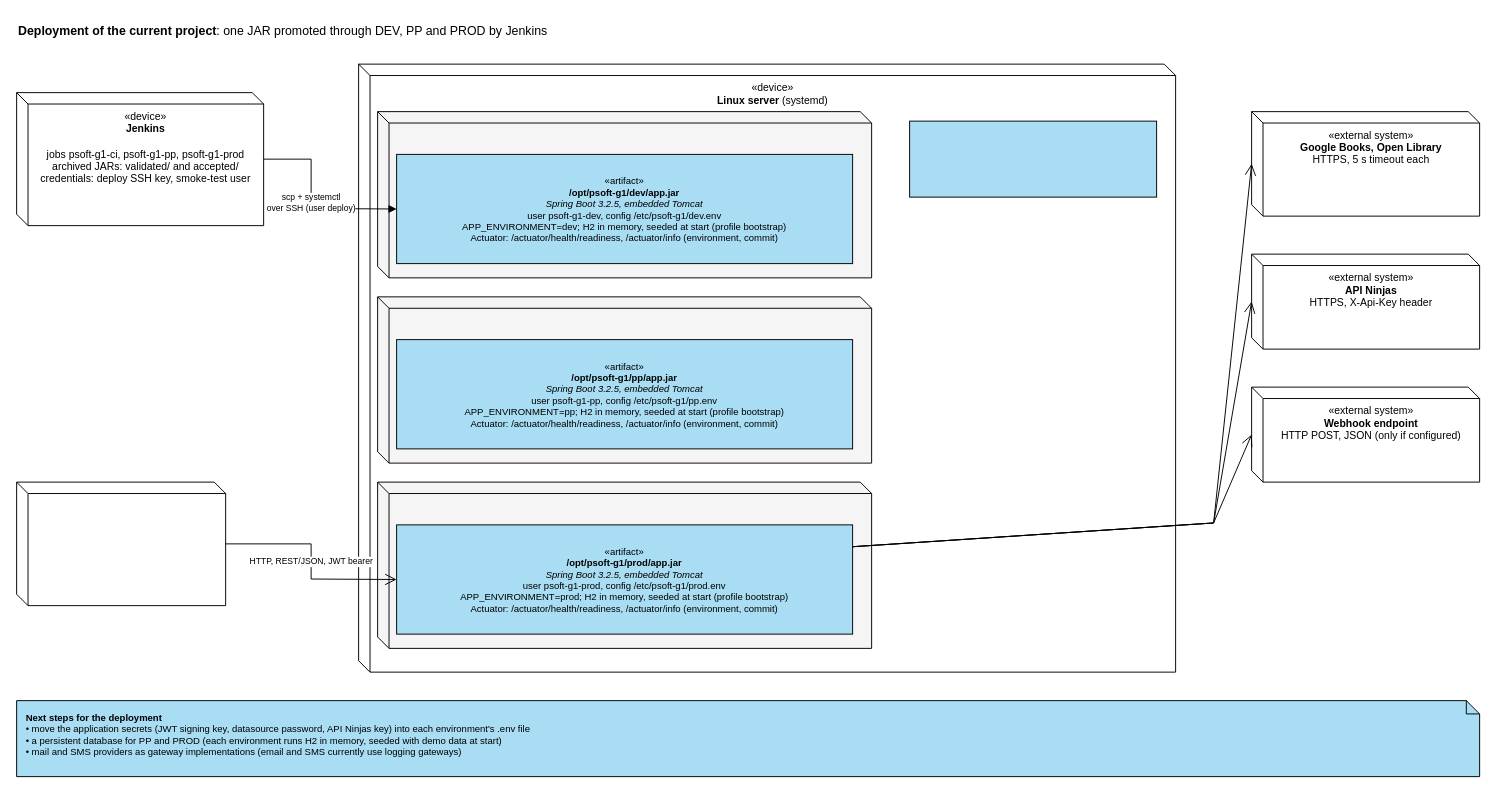
Some shapes in this 1496 by 793 pixel diagram are drawn without their labels. Each missing label, with the box of its shape:
«device» Client Browser (Swagger UI at /swagger-ui) REST clients with a JWT: (16, 481, 226, 606)
«execution environment» psoft-g1@dev (JVM 17+), port 8181: (377, 111, 872, 278)
«execution environment» psoft-g1@pp (JVM 17+), port 8182: (377, 296, 872, 463)
«execution environment» psoft-g1@prod (JVM 17+), port 8183: (377, 481, 872, 648)
«folder» /var/lib/psoft-g1/<env>/uploads photos, one folder per environment: (909, 120, 1157, 197)
